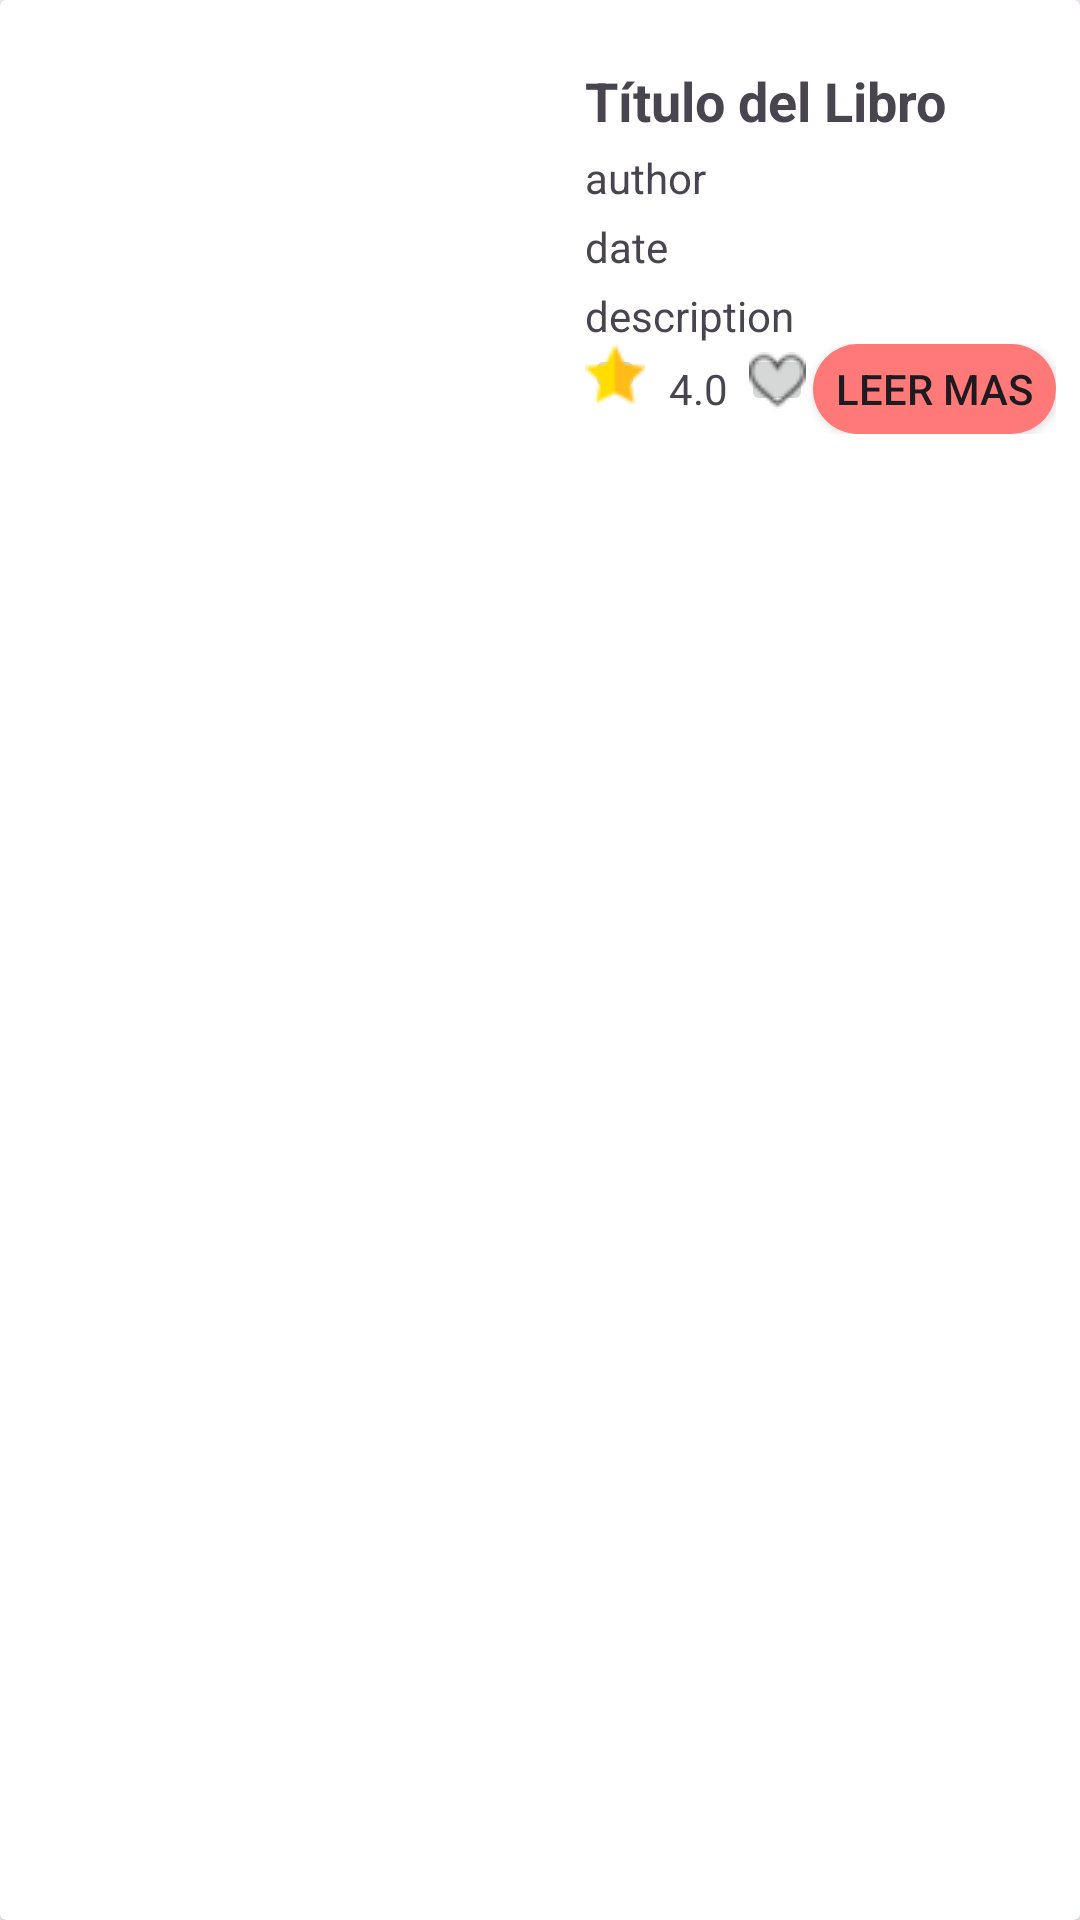

Where to tap for icons on this 1080px×1920px app screen, as point (x, y):
like blank: point (777, 380)
star: point (615, 374)
